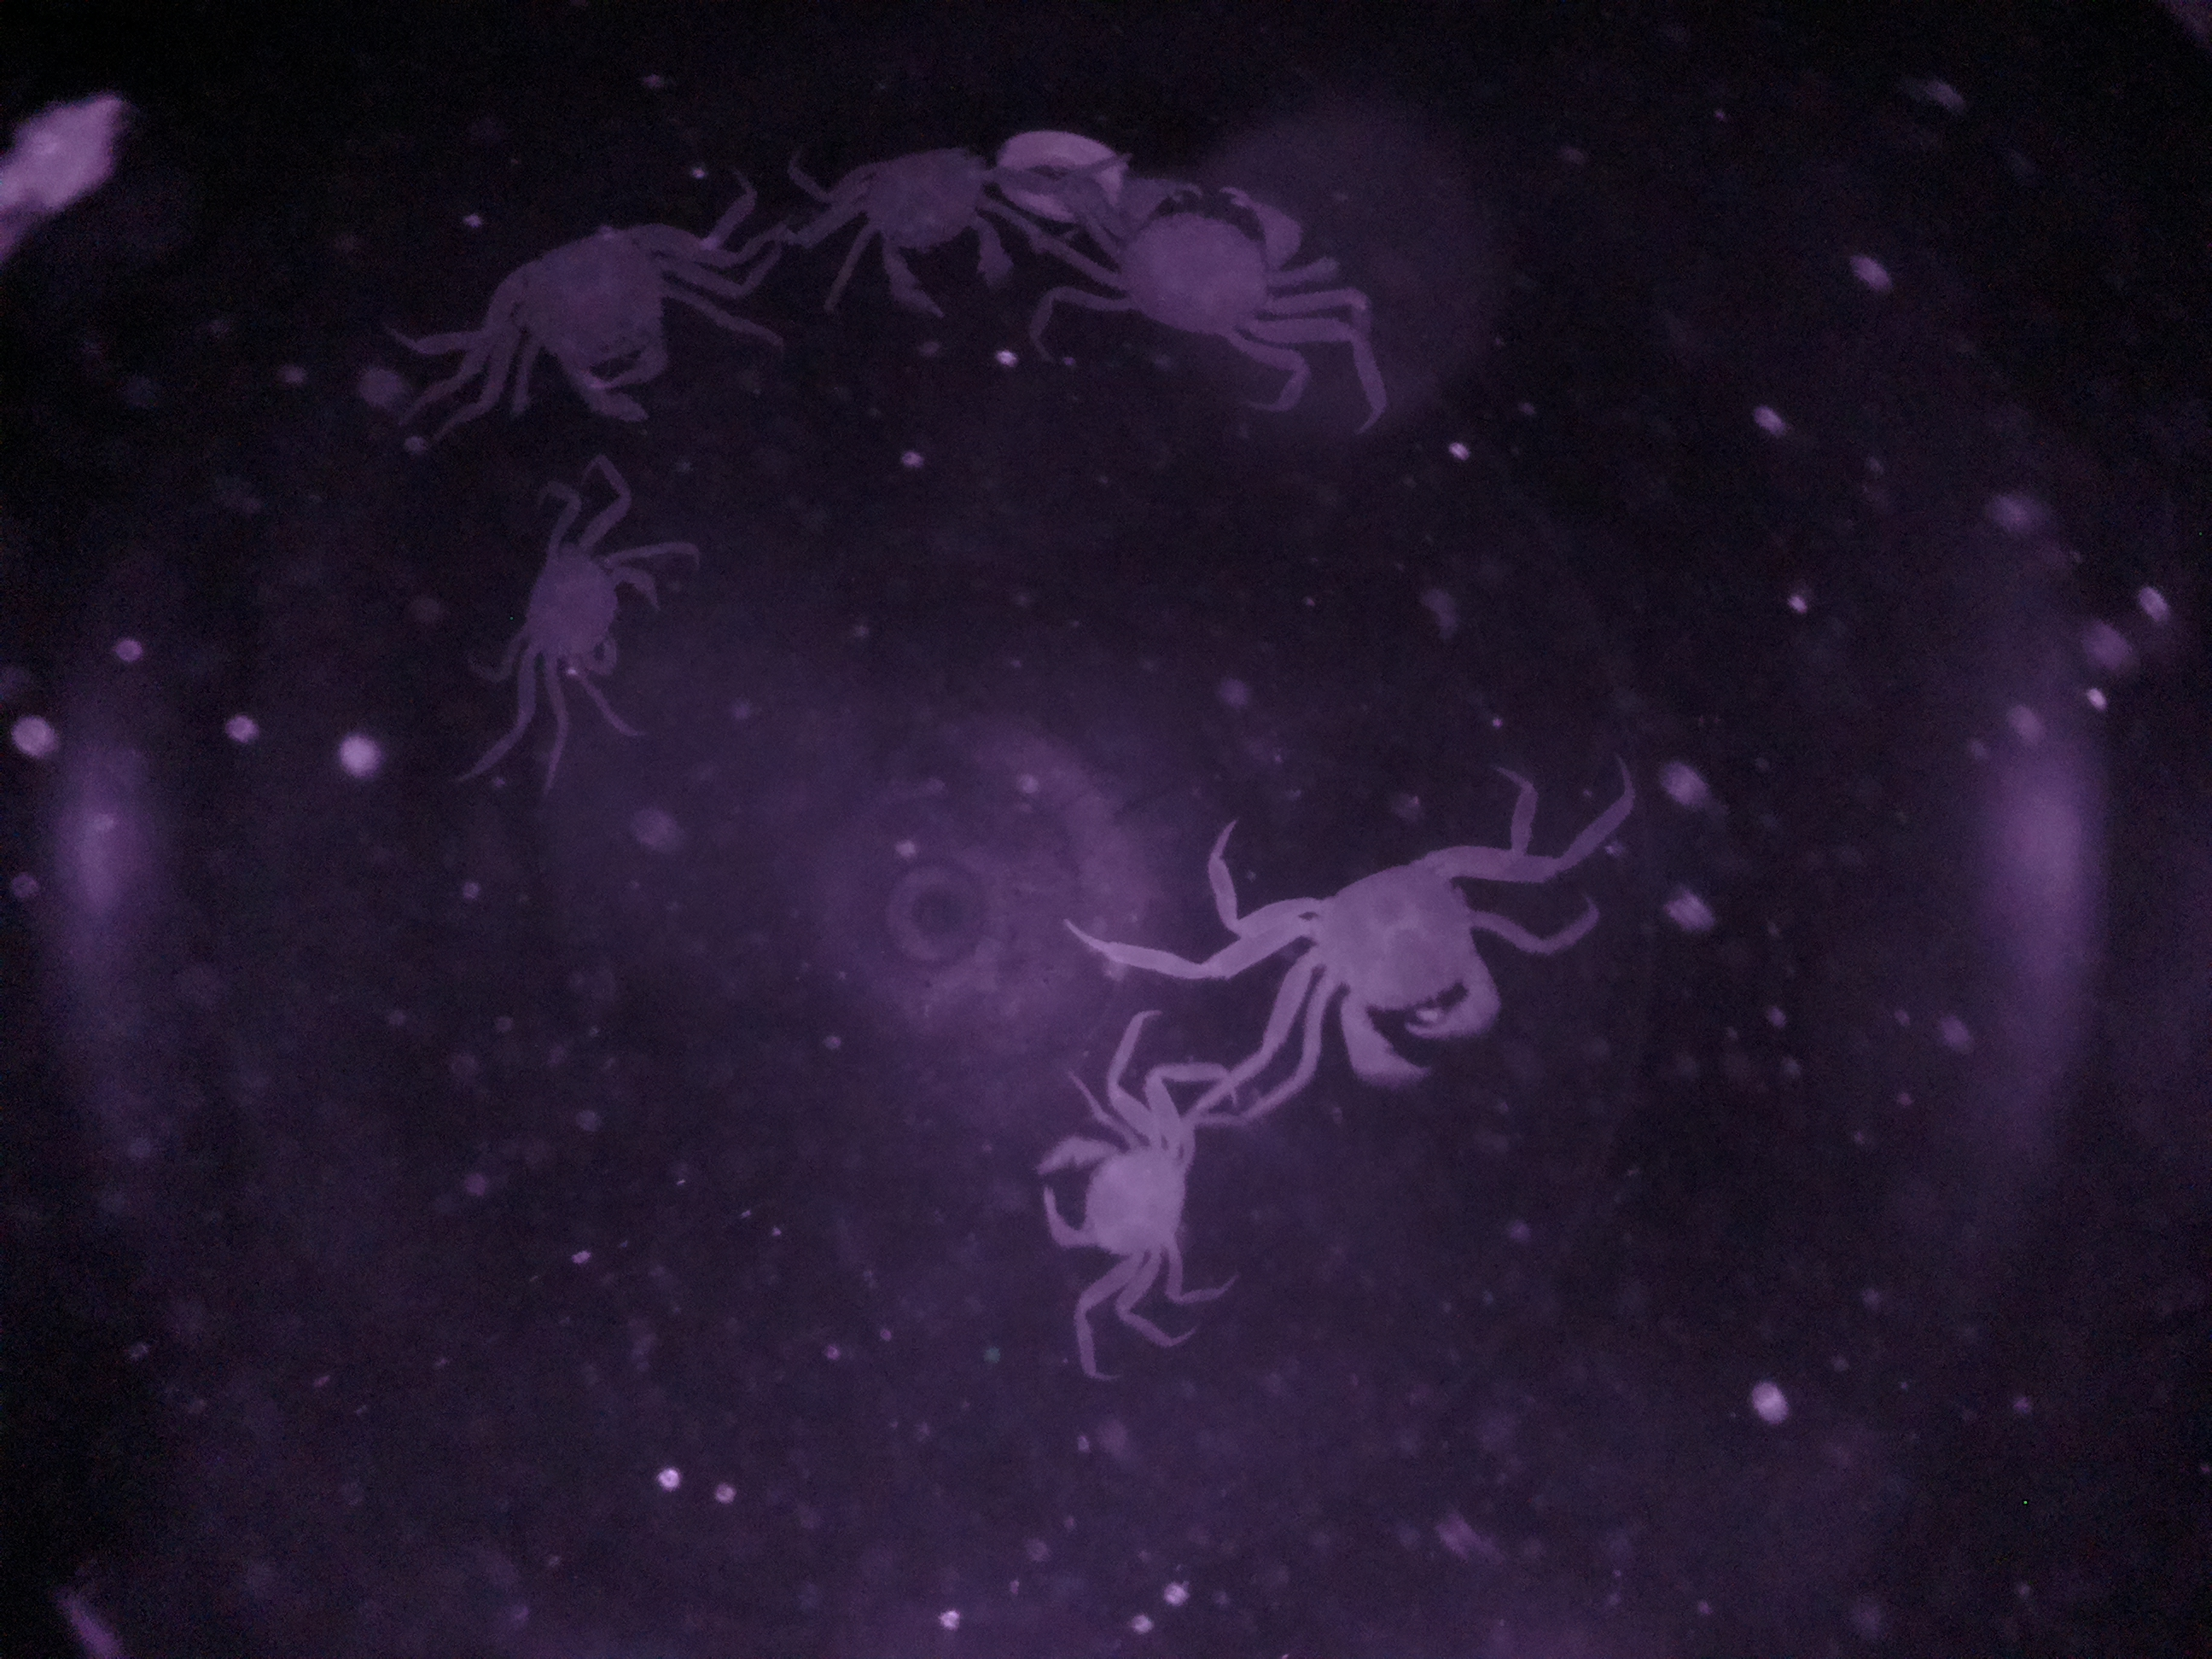Crab: (1221, 816, 1540, 1103), (446, 190, 723, 446), (796, 122, 1040, 340), (1087, 153, 1329, 357), (491, 500, 688, 744), (1021, 1068, 1214, 1307)
